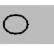no answer: (2, 10, 37, 40)
